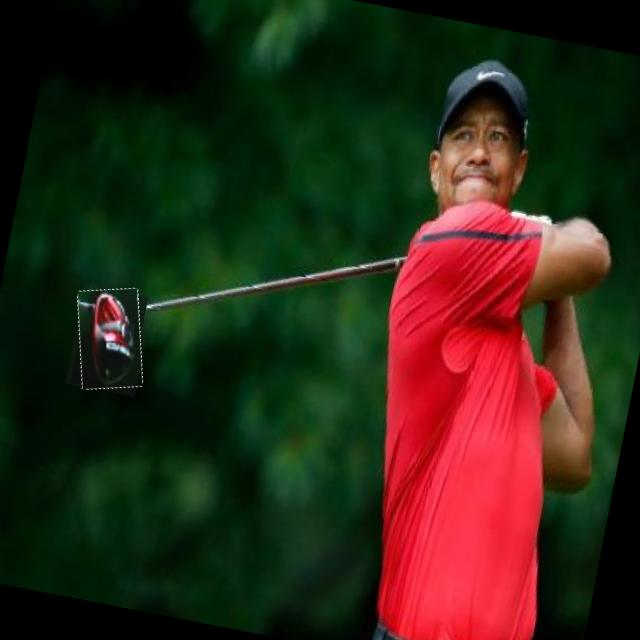club head: (66, 282, 154, 398)
